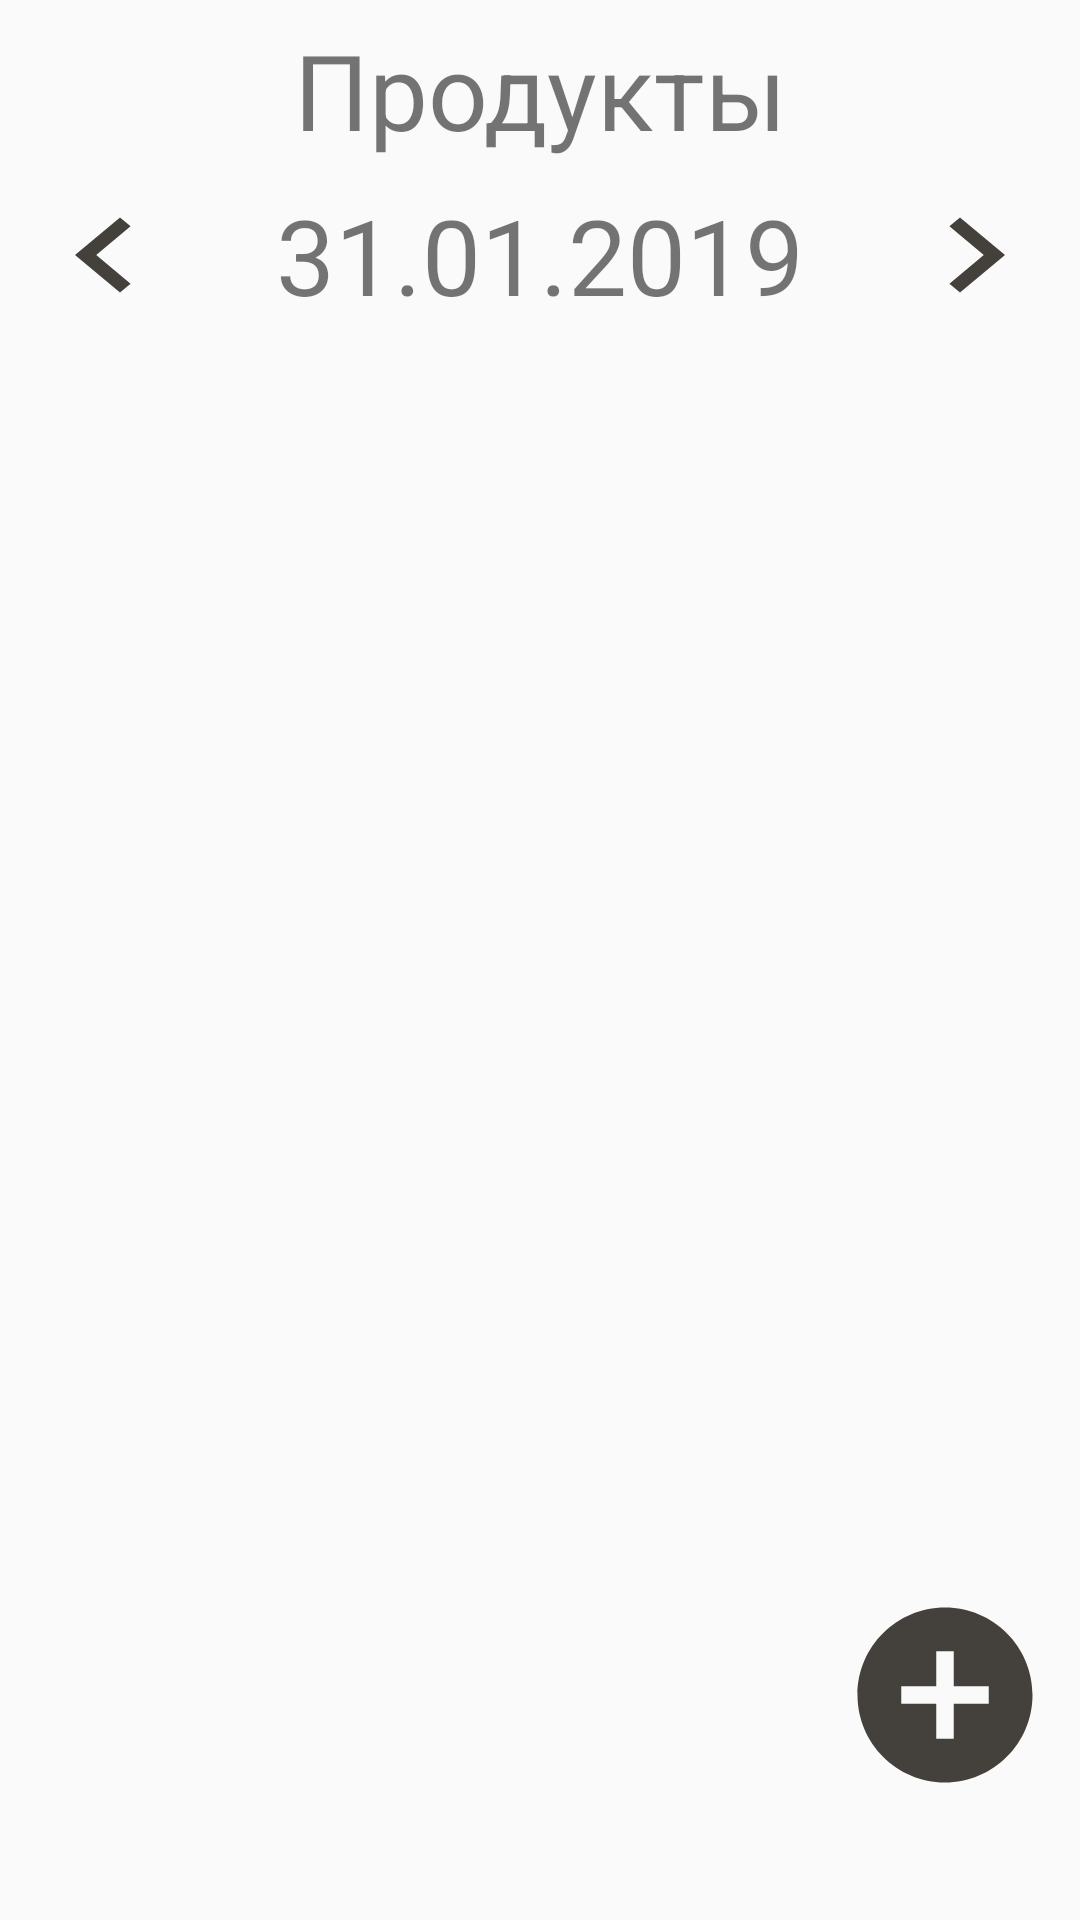

Named icons in this screenshot (1080 x 1920) and their bounding boxes, (x1, y1, x2, y2):
add circle: (857, 1607, 1033, 1783)
chevron left: (75, 217, 131, 293)
chevron right: (949, 217, 1005, 293)
